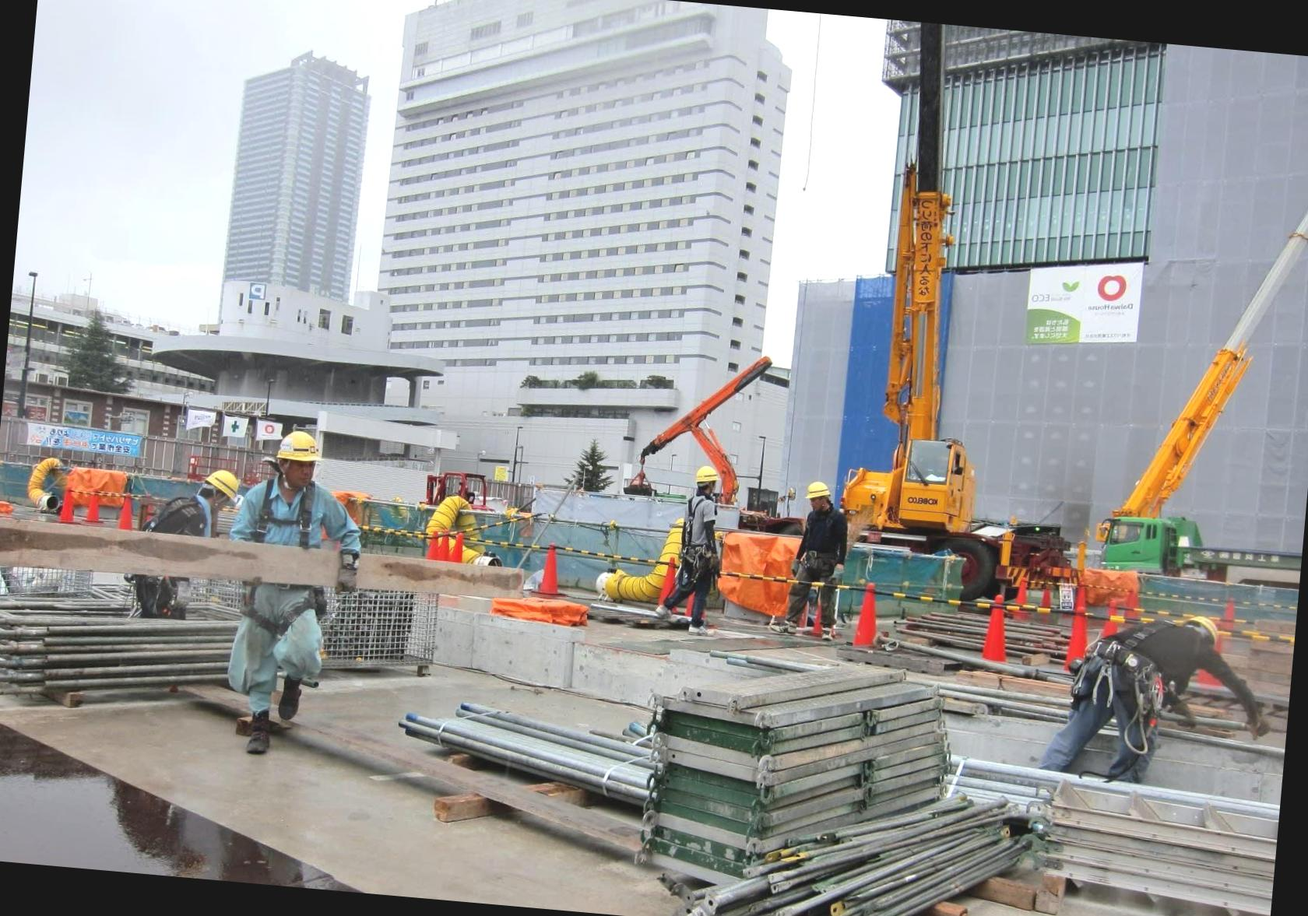helmet: (268, 423, 329, 481)
person: (214, 420, 353, 775), (1036, 600, 1218, 791), (777, 470, 855, 637), (662, 460, 731, 639)
